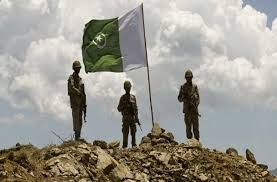uniform: (61, 60, 87, 143), (176, 68, 204, 140), (117, 79, 141, 156)
